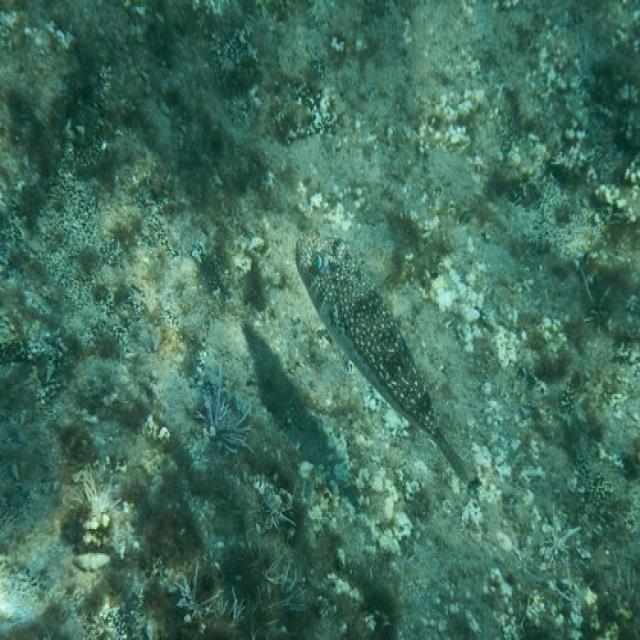Balik: (296, 236, 479, 489)
